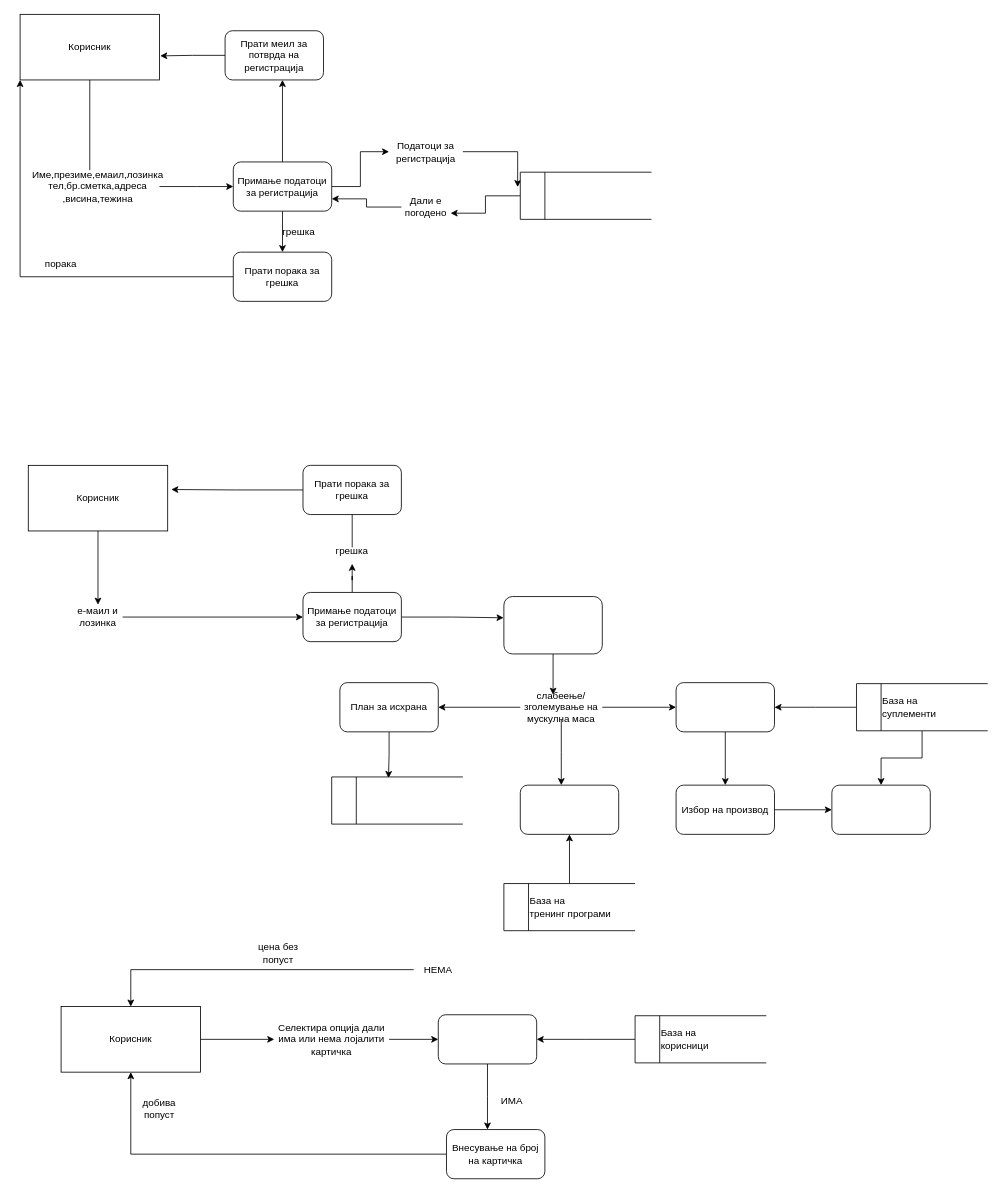
Image size: 1002x1193. Some labels were removed from this diagram. Here are the shapes that lost their labels. From the top down, the box of each, then its label:
(519, 171, 651, 219): База на регистрирани корисници
(503, 596, 602, 654): Избирање план за исхрана
(675, 682, 774, 732): План за суплементација
(331, 776, 463, 824): База на план за исхрана
(519, 784, 619, 834): Тренинг план
(831, 784, 930, 834): Избор на вкус
(437, 1014, 537, 1064): Проверка дали има или нема лојалити картичка
